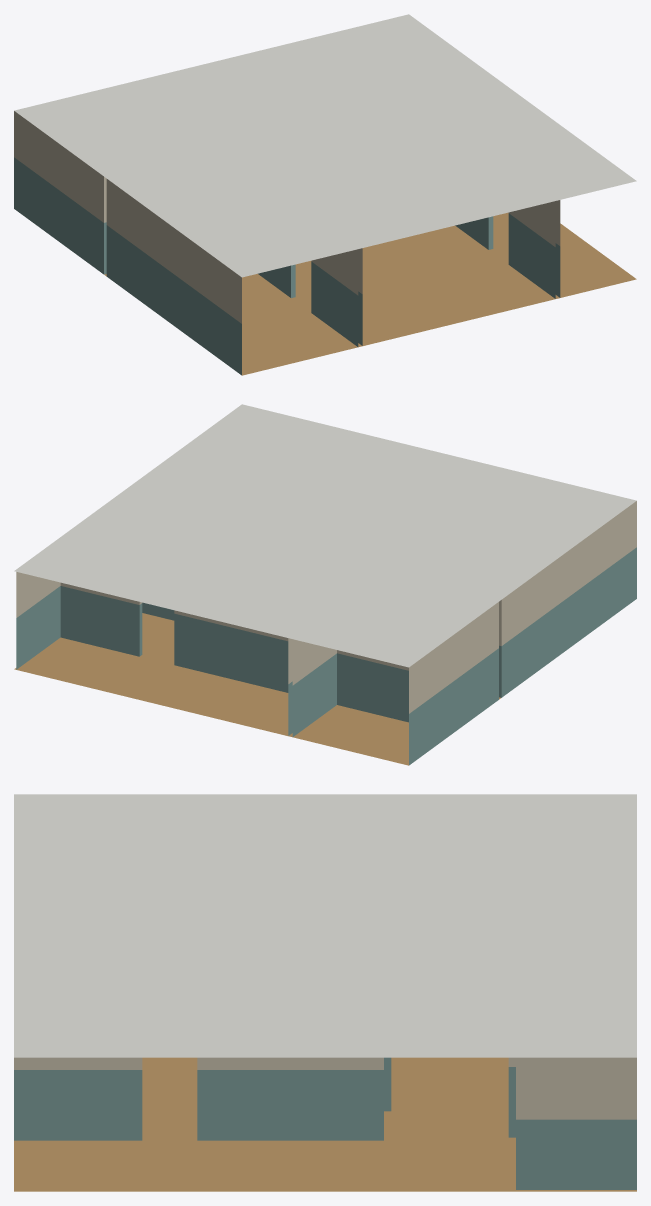
Rendered from chunk_0_2.glb.
The picture shows the model from 3 angles, top to bottom: view 1: azimuth 30°, elevation 25°; view 2: azimuth 150°, elevation 25°; view 3: azimuth 270°, elevation 25°; orthographic projection. The views are drawn at different scales.
Visible parts, largest first — view 1: chunk_0_2; view 2: chunk_0_2; view 3: chunk_0_2.
Part boxes in pixels (left/top/right/bottom): chunk_0_2: left=14, top=14, right=636, bottom=375; chunk_0_2: left=14, top=404, right=636, bottom=765; chunk_0_2: left=14, top=794, right=636, bottom=1191.
Bounding box in the file's own units: 12 × 2.85 × 12.
